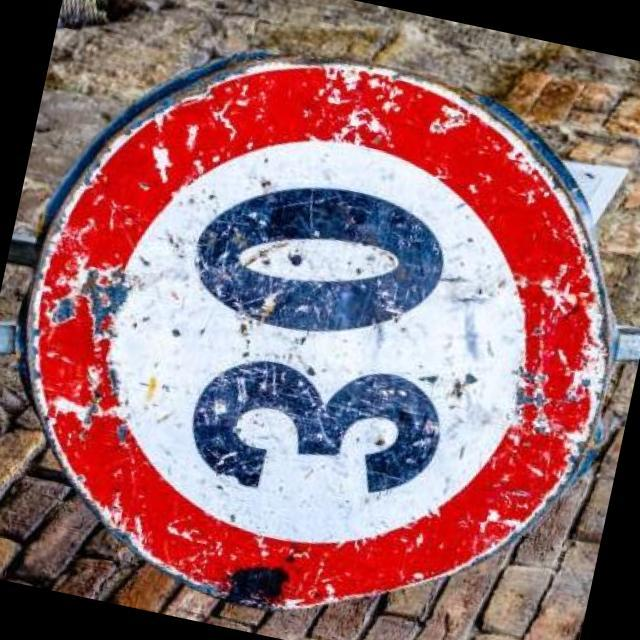obstructed_road_sign: (24, 52, 611, 608)
